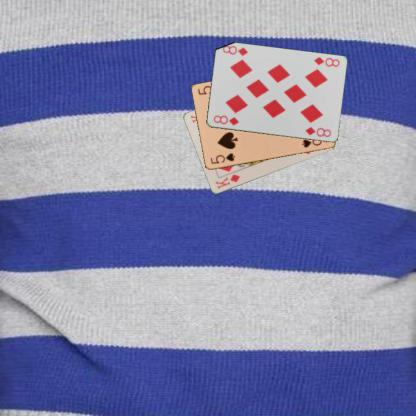5s: (208, 151, 236, 165)
8d: (311, 54, 341, 68), (211, 112, 240, 126)
Kd: (213, 172, 241, 190)
